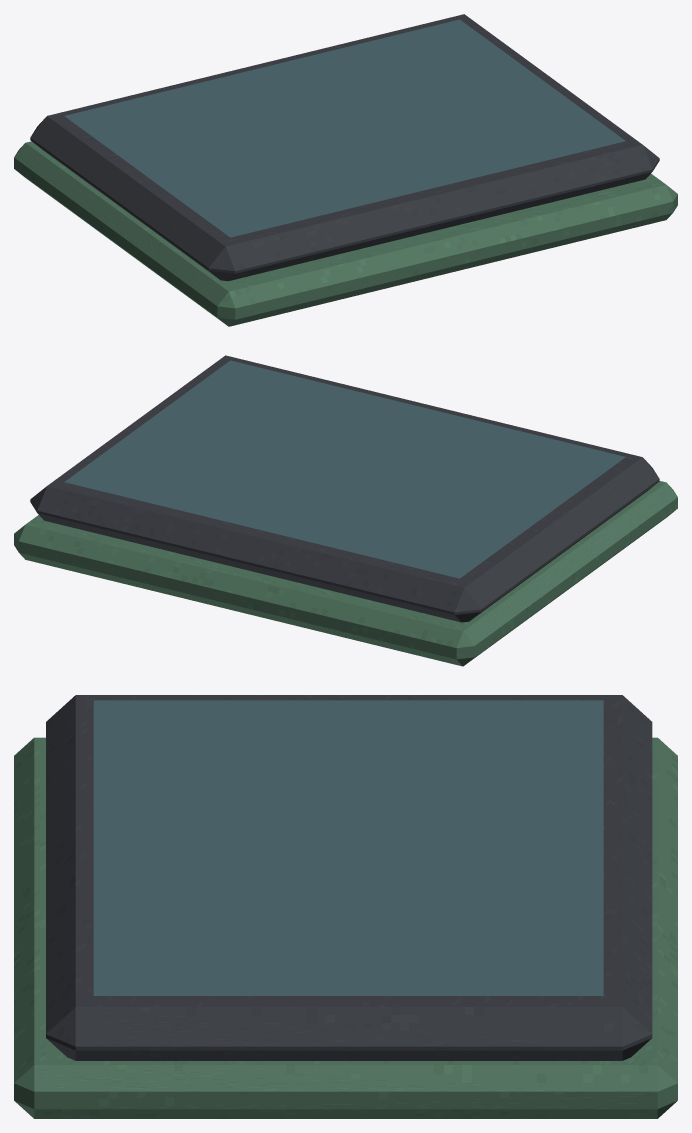
Rendered from large_lcd_screen.glb.
The picture shows the model from 3 angles, top to bottom: view 1: azimuth 30°, elevation 25°; view 2: azimuth 150°, elevation 25°; view 3: azimuth 270°, elevation 25°; orthographic projection. The views are drawn at different scales.
Visible parts, largest first — view 1: block_panel glass, block_panel surround, block_circuit substrate; view 2: block_panel glass, block_panel surround, block_circuit substrate; view 3: block_panel glass, block_panel surround, block_circuit substrate.
Boxes of the visible parts, <box> form: block_panel glass: <box>64,19,625,237</box>; block_panel surround: <box>30,14,659,281</box>; block_circuit substrate: <box>14,141,677,326</box>; block_panel glass: <box>64,360,625,578</box>; block_panel surround: <box>30,355,659,622</box>; block_circuit substrate: <box>14,481,677,666</box>; block_panel glass: <box>93,700,603,995</box>; block_panel surround: <box>46,695,652,1060</box>; block_circuit substrate: <box>14,737,677,1118</box>.
Size of the model in its own units: 0.4686 by 0.0679 by 0.3817.
1 material, 1 textured.
